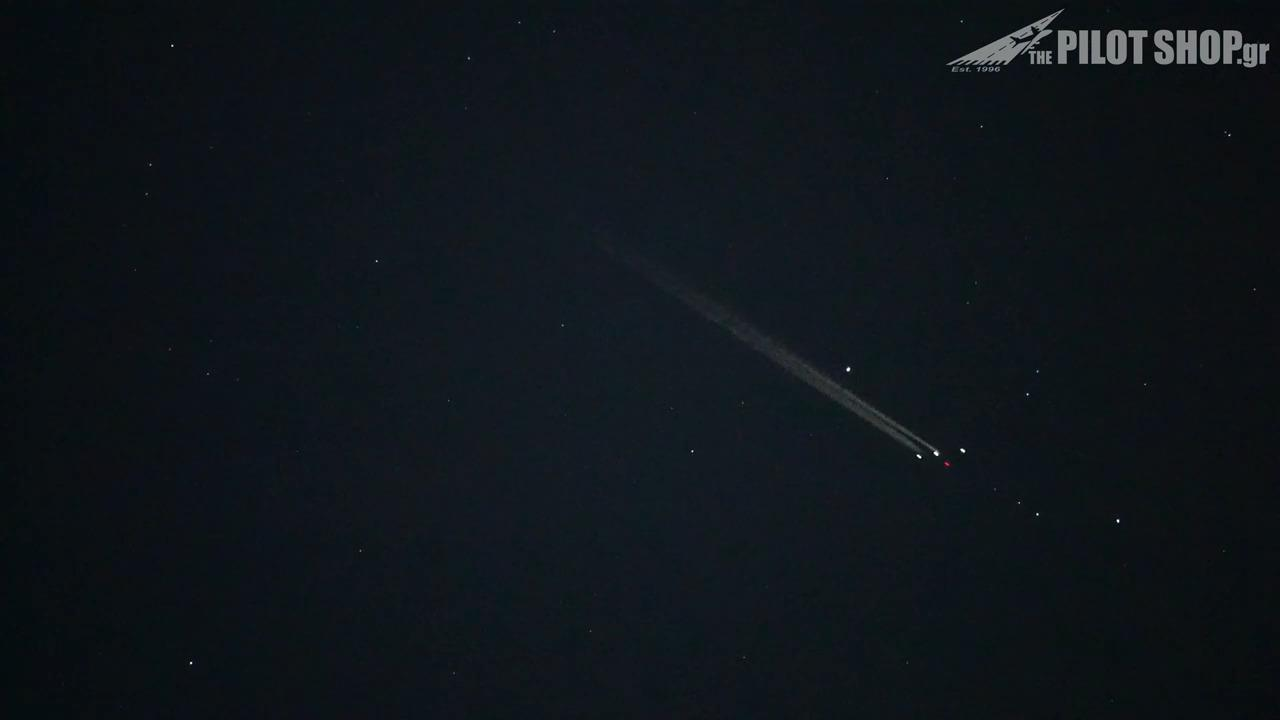Plane: (871, 402, 968, 469)
